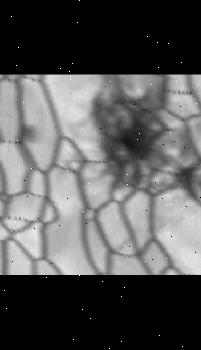good_void: (81, 74, 201, 204), (9, 122, 43, 151)
